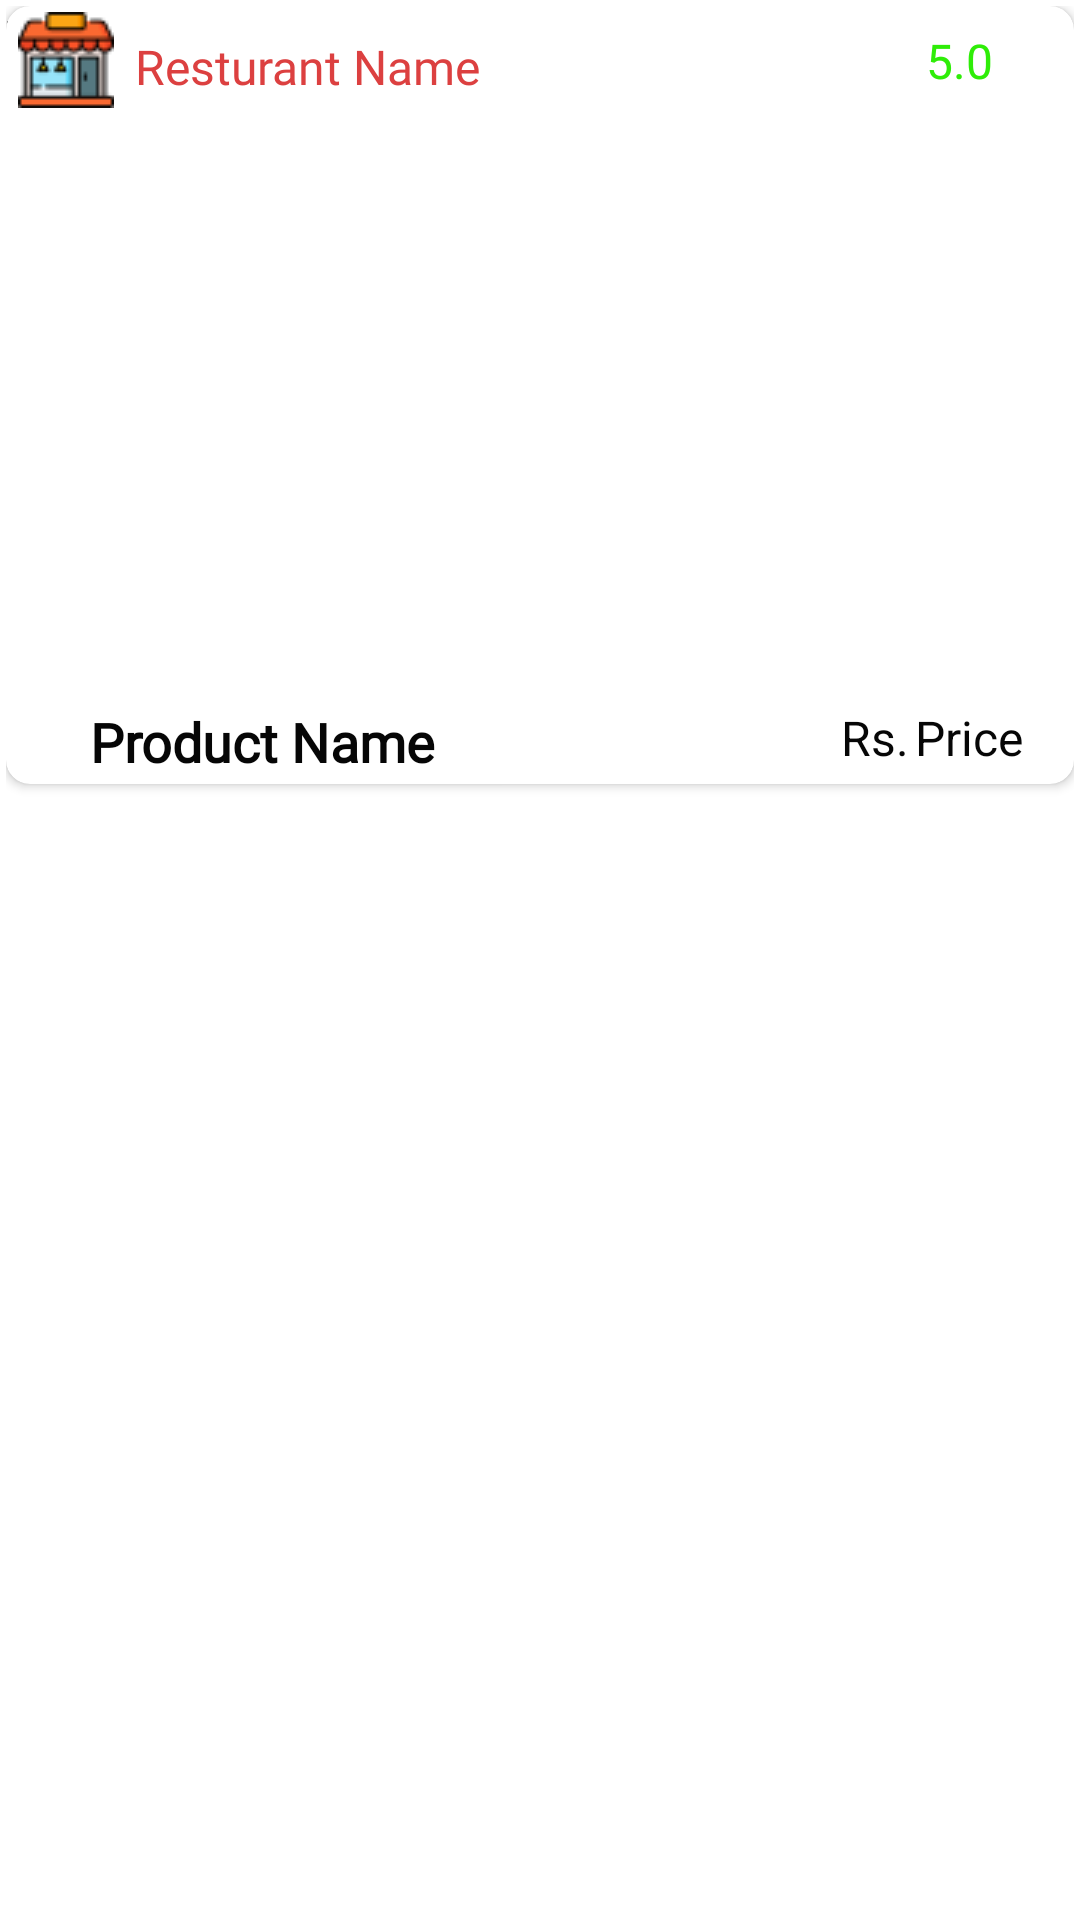

Icon bounding boxes for this 1080 × 1920 phone screenshot, format [left=x1, top=y1, right=x2, bottom=y2]:
cafe: [left=18, top=12, right=114, bottom=108]
